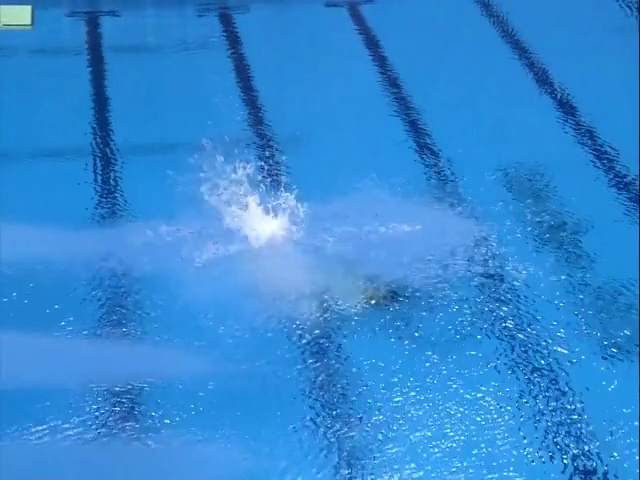splash: (229, 193, 303, 249)
